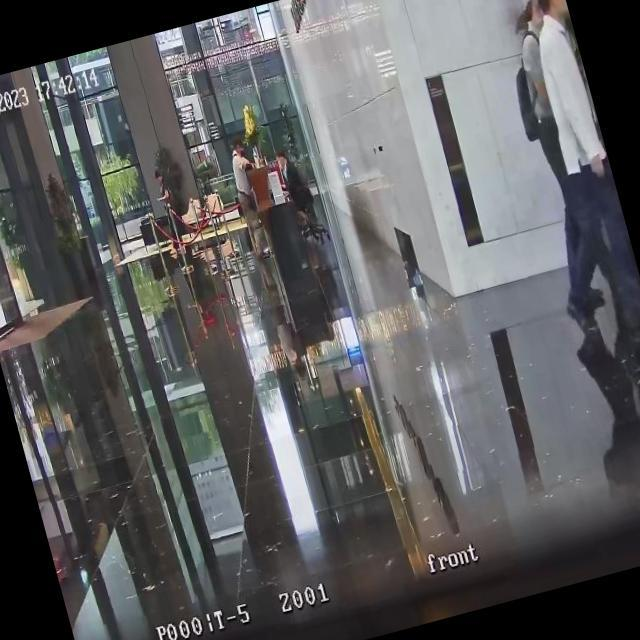person: (494, 0, 640, 353), (486, 0, 623, 331), (513, 0, 640, 344), (224, 136, 279, 262), (272, 144, 316, 231), (150, 168, 187, 255)
